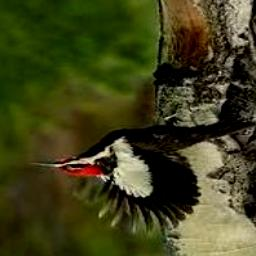Woodpecker: (31, 114, 256, 235)
